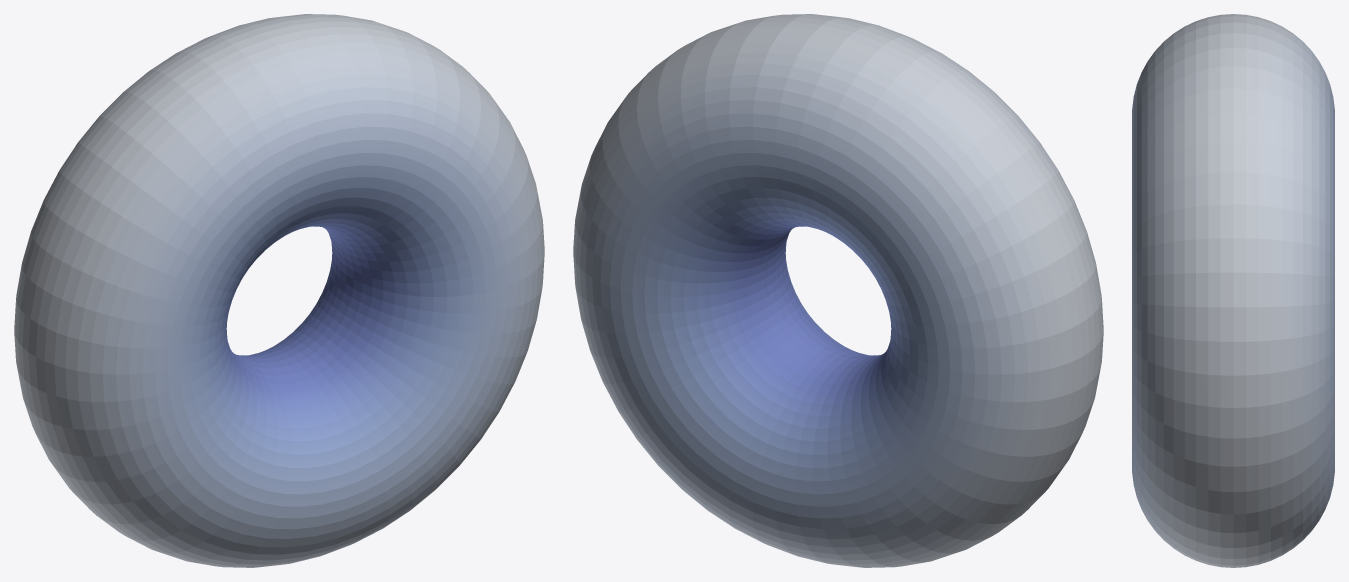
3 views of the same model, side by side, from view 1: azimuth 30°, elevation 25°; view 2: azimuth 150°, elevation 25°; view 3: azimuth 270°, elevation 25° (orthographic). The views are drawn at different scales.
Parts seen in each view (by area): view 1: world; view 2: world; view 3: world.
Part boxes in pixels (bbox=[...]): world: bbox=[14, 14, 544, 567]; world: bbox=[573, 14, 1103, 567]; world: bbox=[1132, 14, 1334, 567].
Bounding box in the file's own units: 20 × 19.96 × 7.32.
